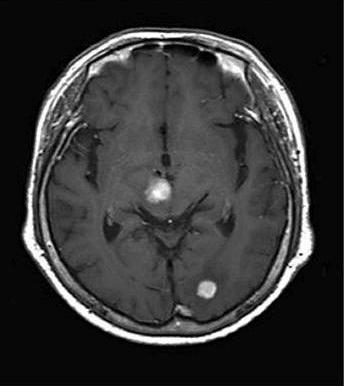Normal_Brain: (1, 1, 339, 386)
